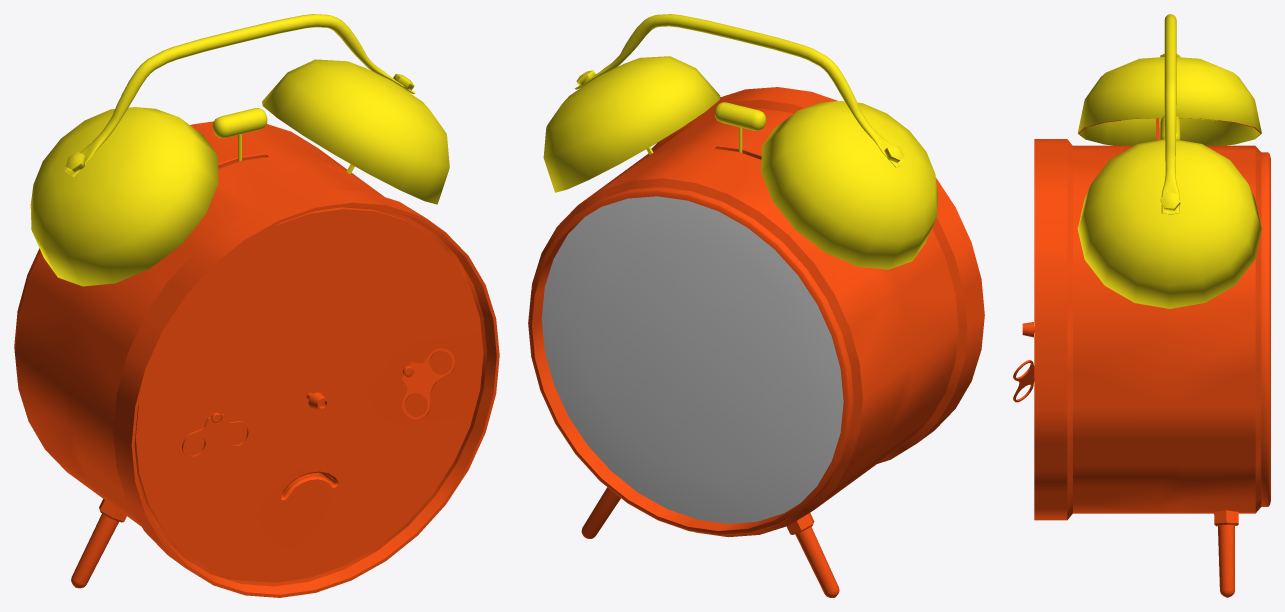
Rendered from RELOJ_REDONDO.obj.
The picture shows the model from 3 angles, left to right: view 1: azimuth 30°, elevation 25°; view 2: azimuth 150°, elevation 25°; view 3: azimuth 270°, elevation 25°; orthographic projection. The views are drawn at different scales.
Visible parts, largest first — view 1: Clock; view 2: Clock; view 3: Clock.
Part boxes in pixels (x1,y1,x2,y2): Clock: (14,14,499,597); Clock: (528,14,984,597); Clock: (1013,14,1270,597).
Size of the model in its own units: 0.2365 by 0.3171 by 0.1502.
Materials: 1 (1 with a texture image).
